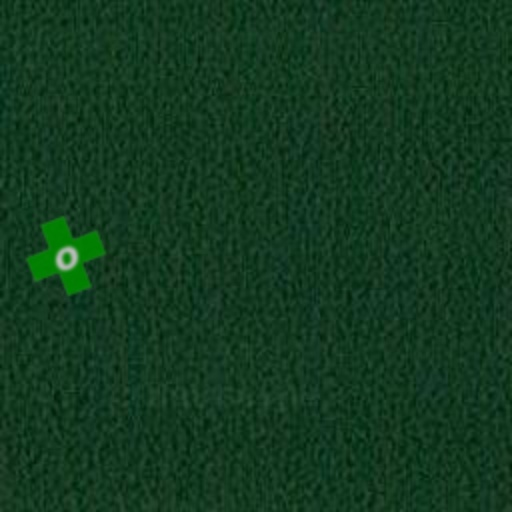cross: (16, 206, 116, 306)
